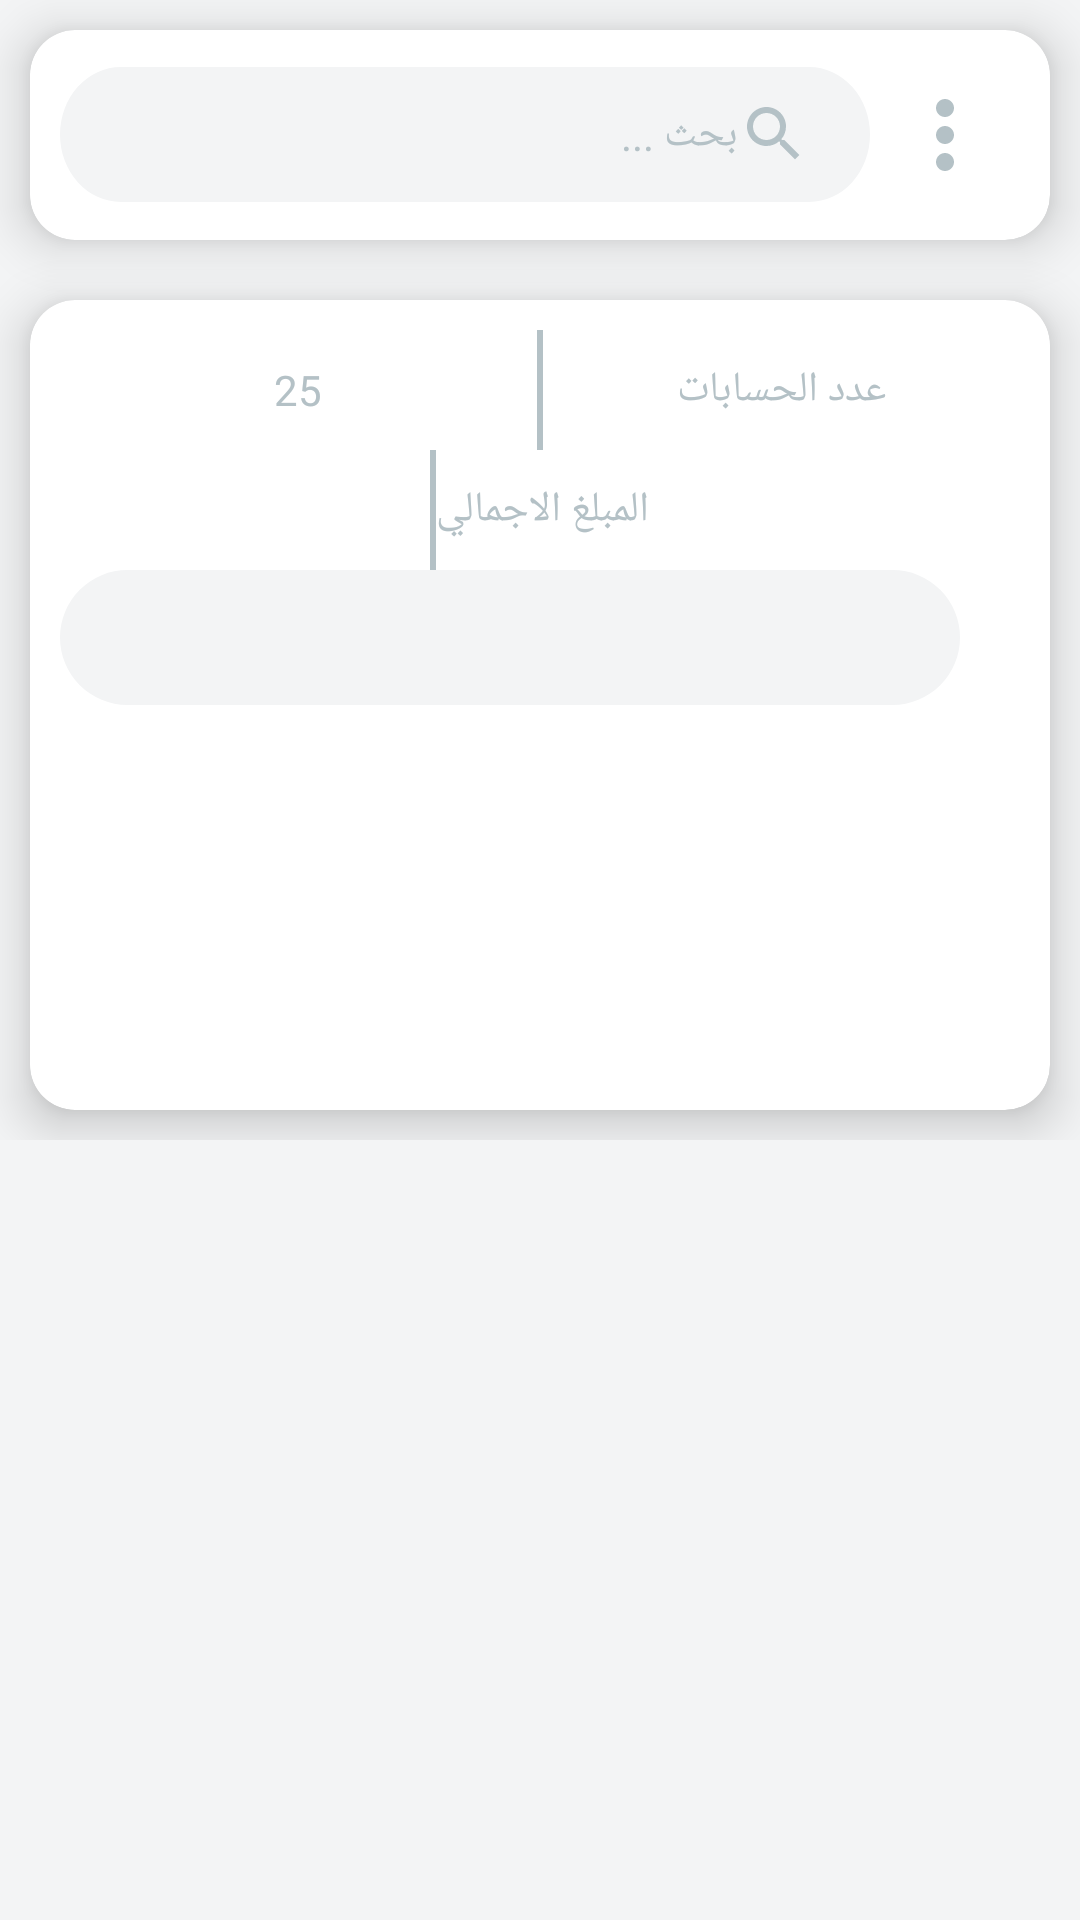

Icons on this 1080w x 1920h Android screen, each with its box as detection(x1, y1, x2, y2):
menu: detection(936, 99, 954, 171)
